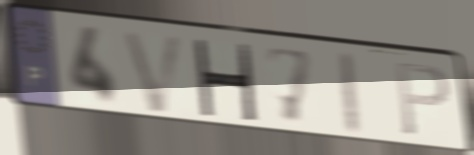4: (65, 22, 122, 111)
7: (262, 43, 316, 129)
H: (189, 36, 259, 124)
I: (339, 48, 366, 138)
P: (393, 60, 453, 140)
V: (118, 28, 189, 116)
